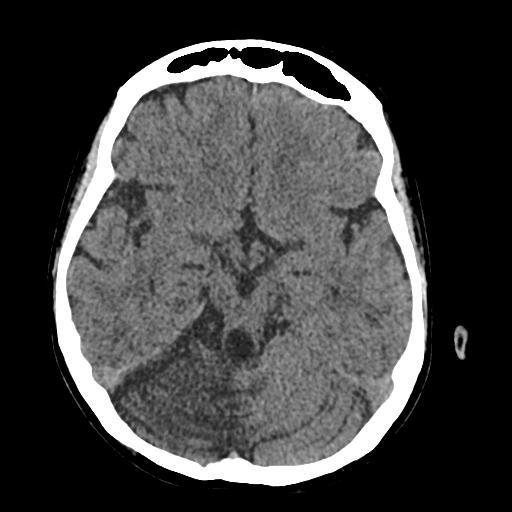Cancer: (140, 343, 256, 450)
